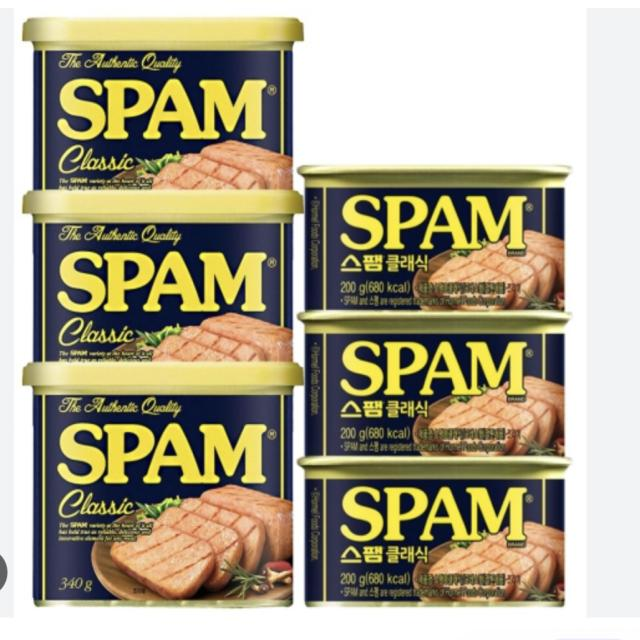recyclable: (298, 148, 586, 624)
